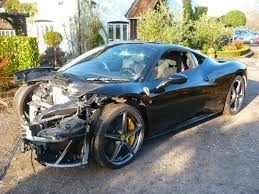Smashed: (15, 77, 121, 168)
